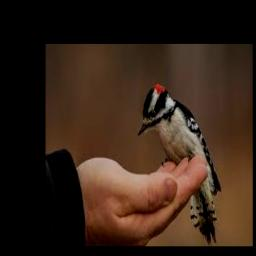Woodpecker: (138, 82, 221, 246)
